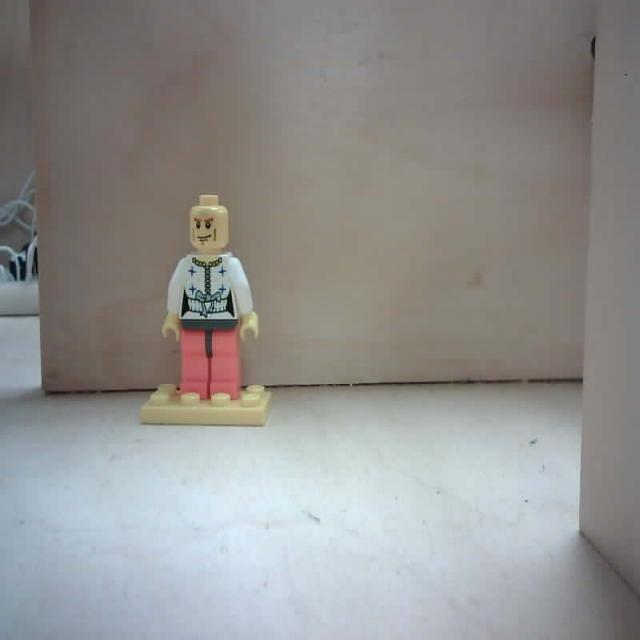Lego-People: (140, 191, 274, 437)
